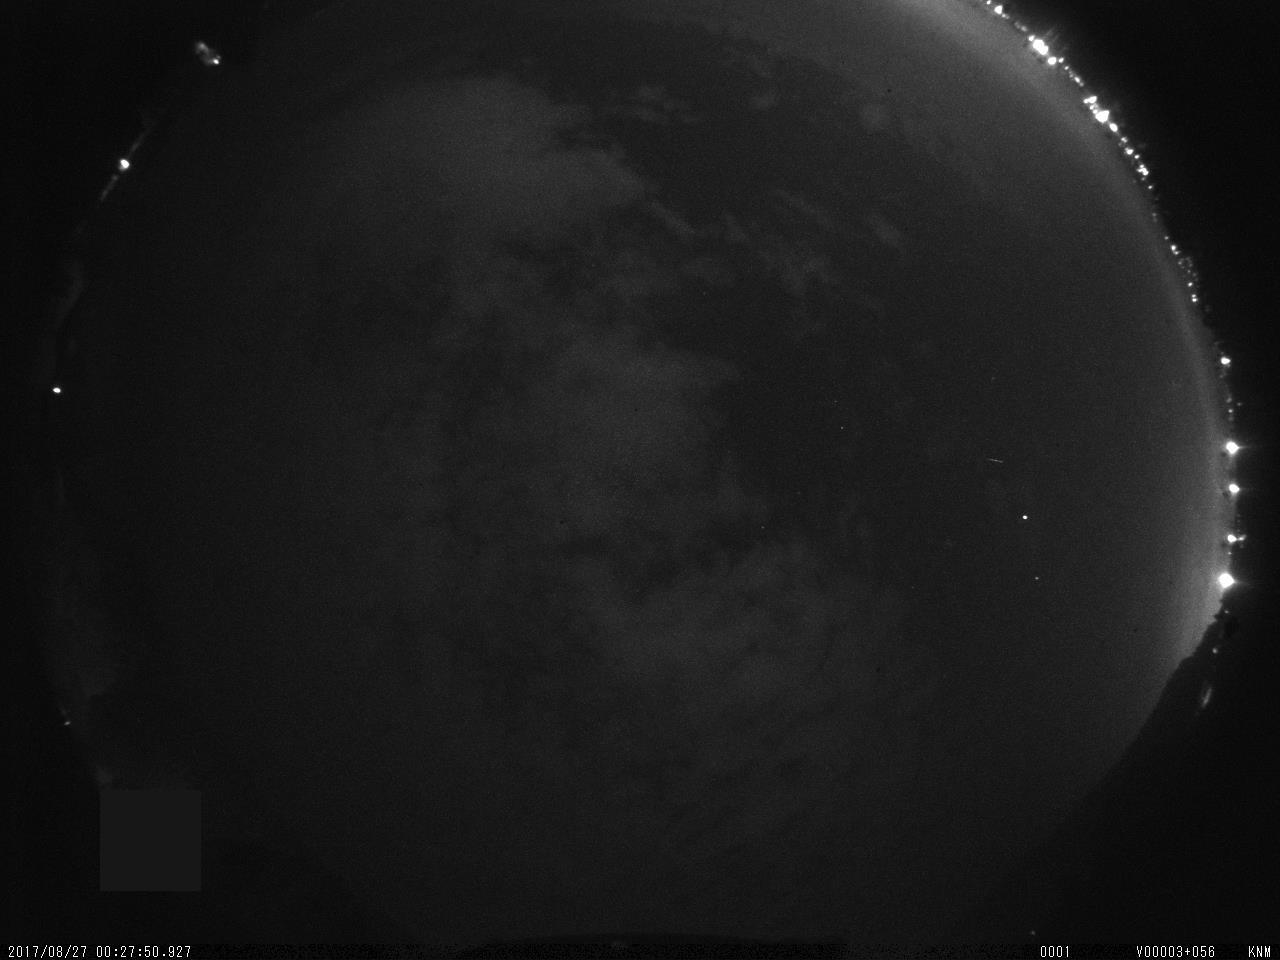meteor: (977, 451, 1014, 468)
